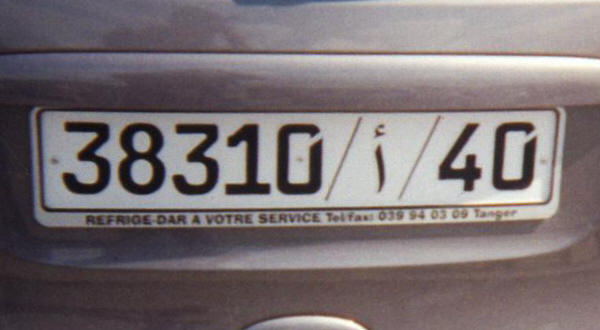number_plate: (35, 106, 560, 216)
